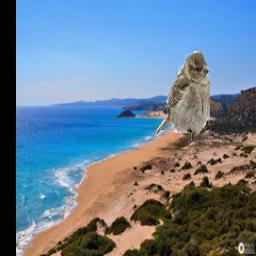Sparrow: (155, 52, 210, 147)
